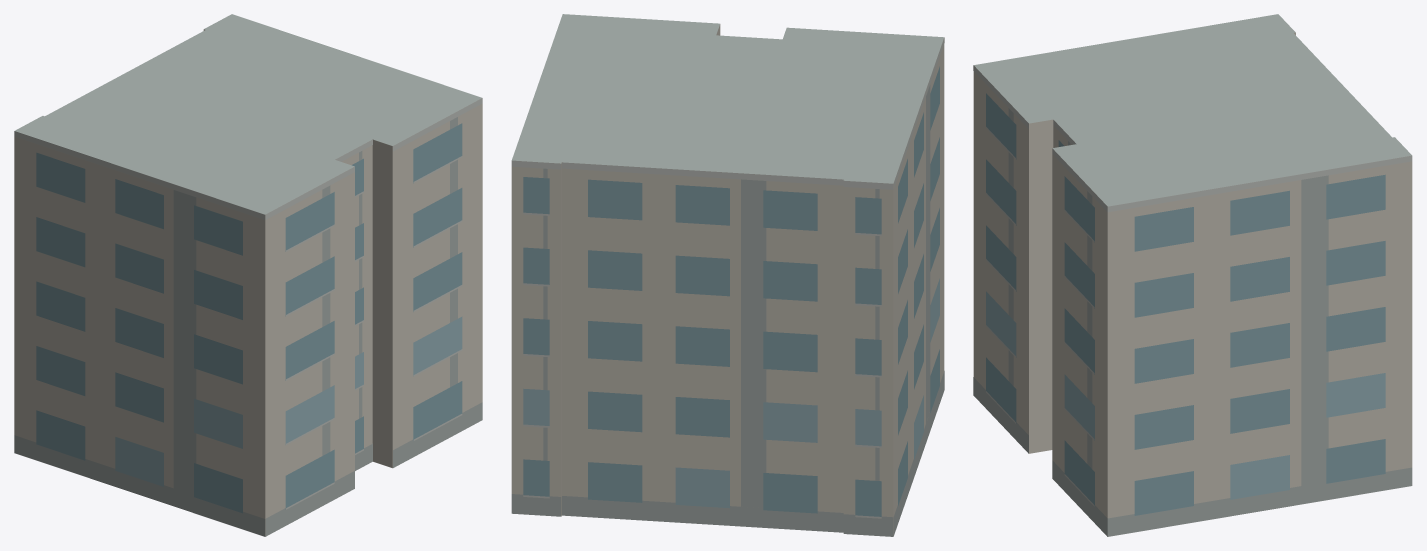
File: survey-upis-32907291.glb
The picture shows the model from 3 angles, left to right: view 1: azimuth 30°, elevation 25°; view 2: azimuth 150°, elevation 25°; view 3: azimuth 270°, elevation 25°; orthographic projection. The views are drawn at different scales.
Parts seen in each view (by area): view 1: survey-upis-32907291.tmp; view 2: survey-upis-32907291.tmp; view 3: survey-upis-32907291.tmp.
Boxes of the visible parts, box(x1,y1,x2,y2) form: survey-upis-32907291.tmp: box(14, 14, 482, 536); survey-upis-32907291.tmp: box(511, 14, 944, 536); survey-upis-32907291.tmp: box(973, 14, 1412, 536).
Size of the model in its own units: 17.48 by 13.97 by 16.83.
